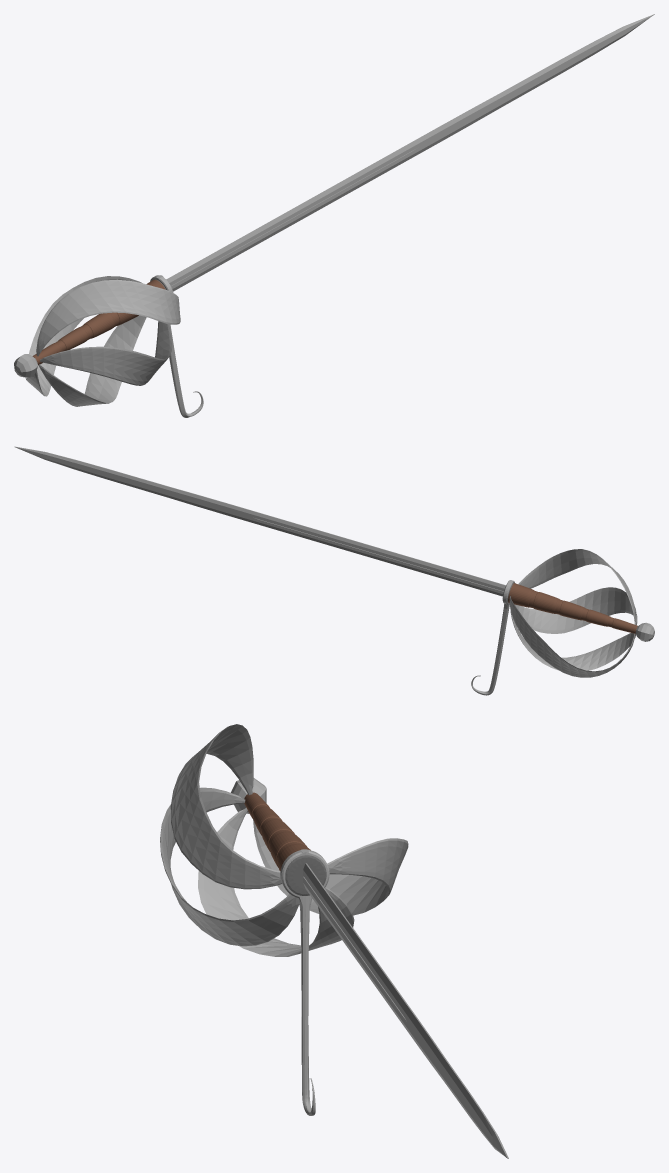
File: RapierIdleV2.fbx
The picture shows the model from 3 angles, top to bottom: view 1: azimuth 30°, elevation 25°; view 2: azimuth 150°, elevation 25°; view 3: azimuth 270°, elevation 25°; orthographic projection. The views are drawn at different scales.
Parts seen in each view (by area): view 1: pCylinder2; view 2: pCylinder2; view 3: pCylinder2.
Boxes of the visible parts, x1=… form: pCylinder2: x1=14, y1=14, x2=654, y2=417; pCylinder2: x1=14, y1=446, x2=654, y2=695; pCylinder2: x1=160, y1=724, x2=508, y2=1158.
Size of the model in its own units: 2.87 by 0.8694 by 0.7542.
